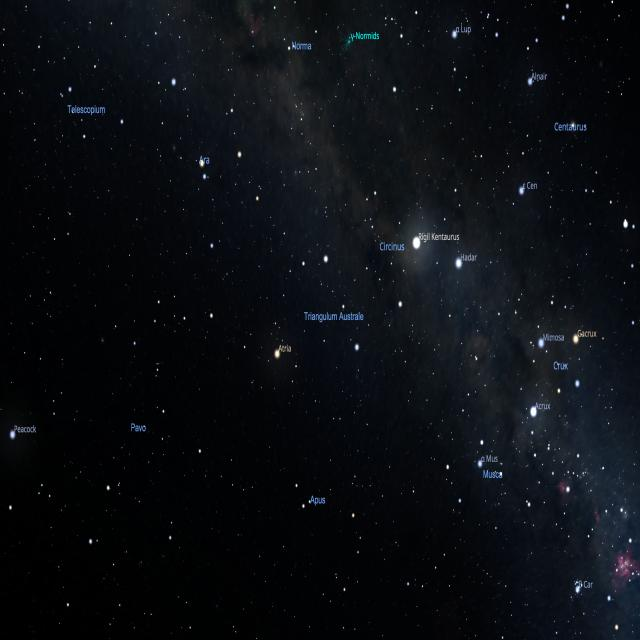Triangulum Australe: (273, 250, 364, 362)
